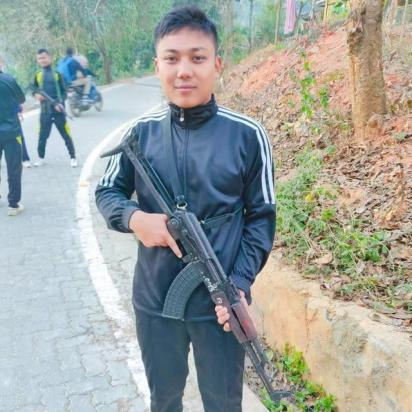Gun: (97, 130, 294, 408)
